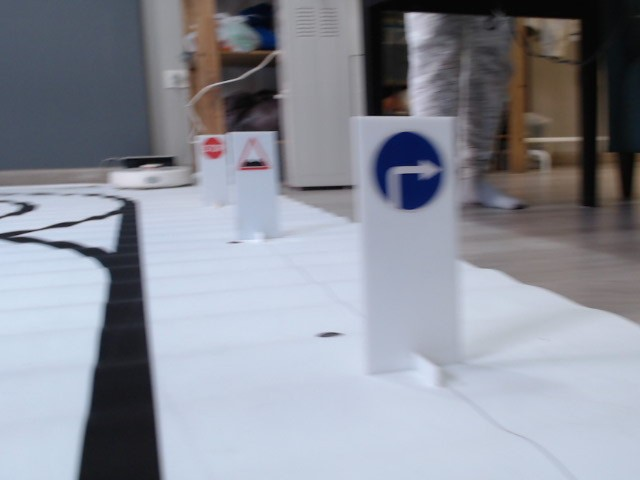Nerov: (238, 138, 271, 172)
Right: (369, 132, 446, 212)
